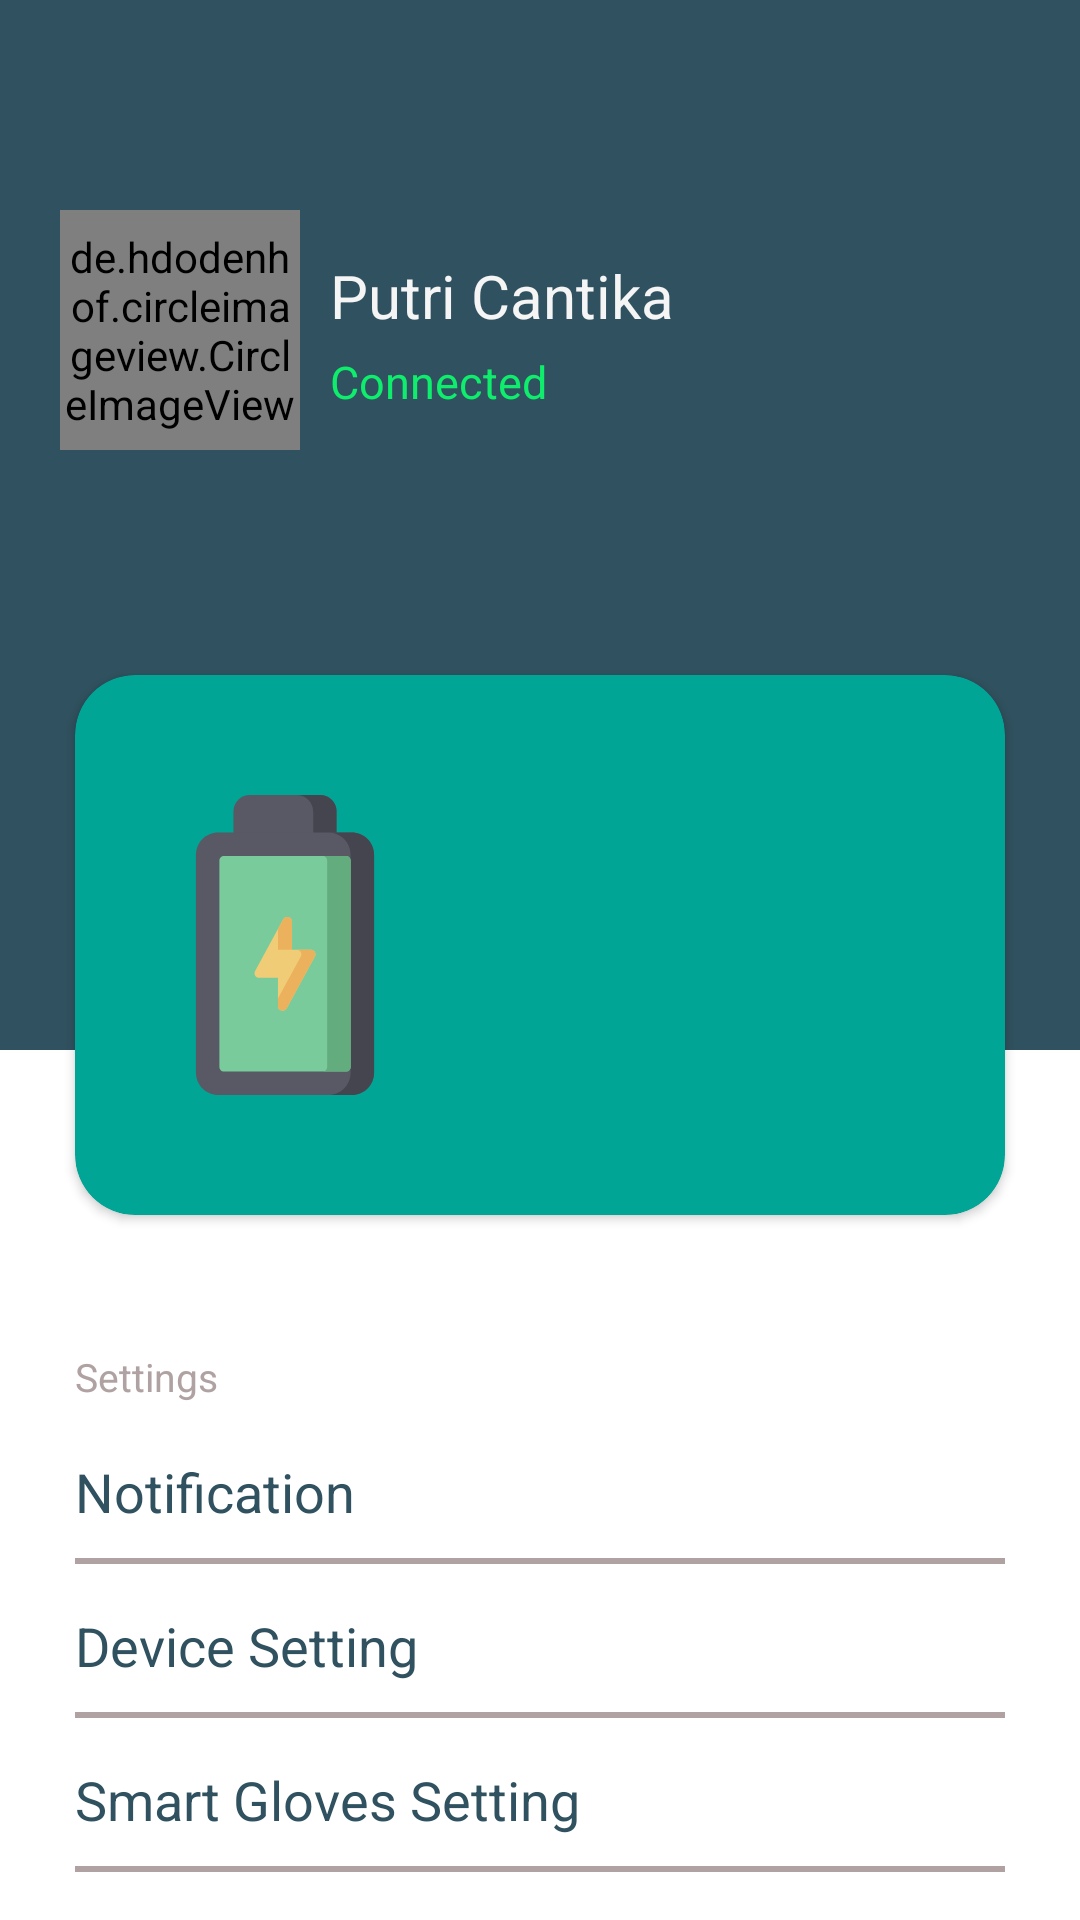

Screen size 1080 × 1920. Icon name, then its center in pixels as [x,y]:
battery: [285,945]
